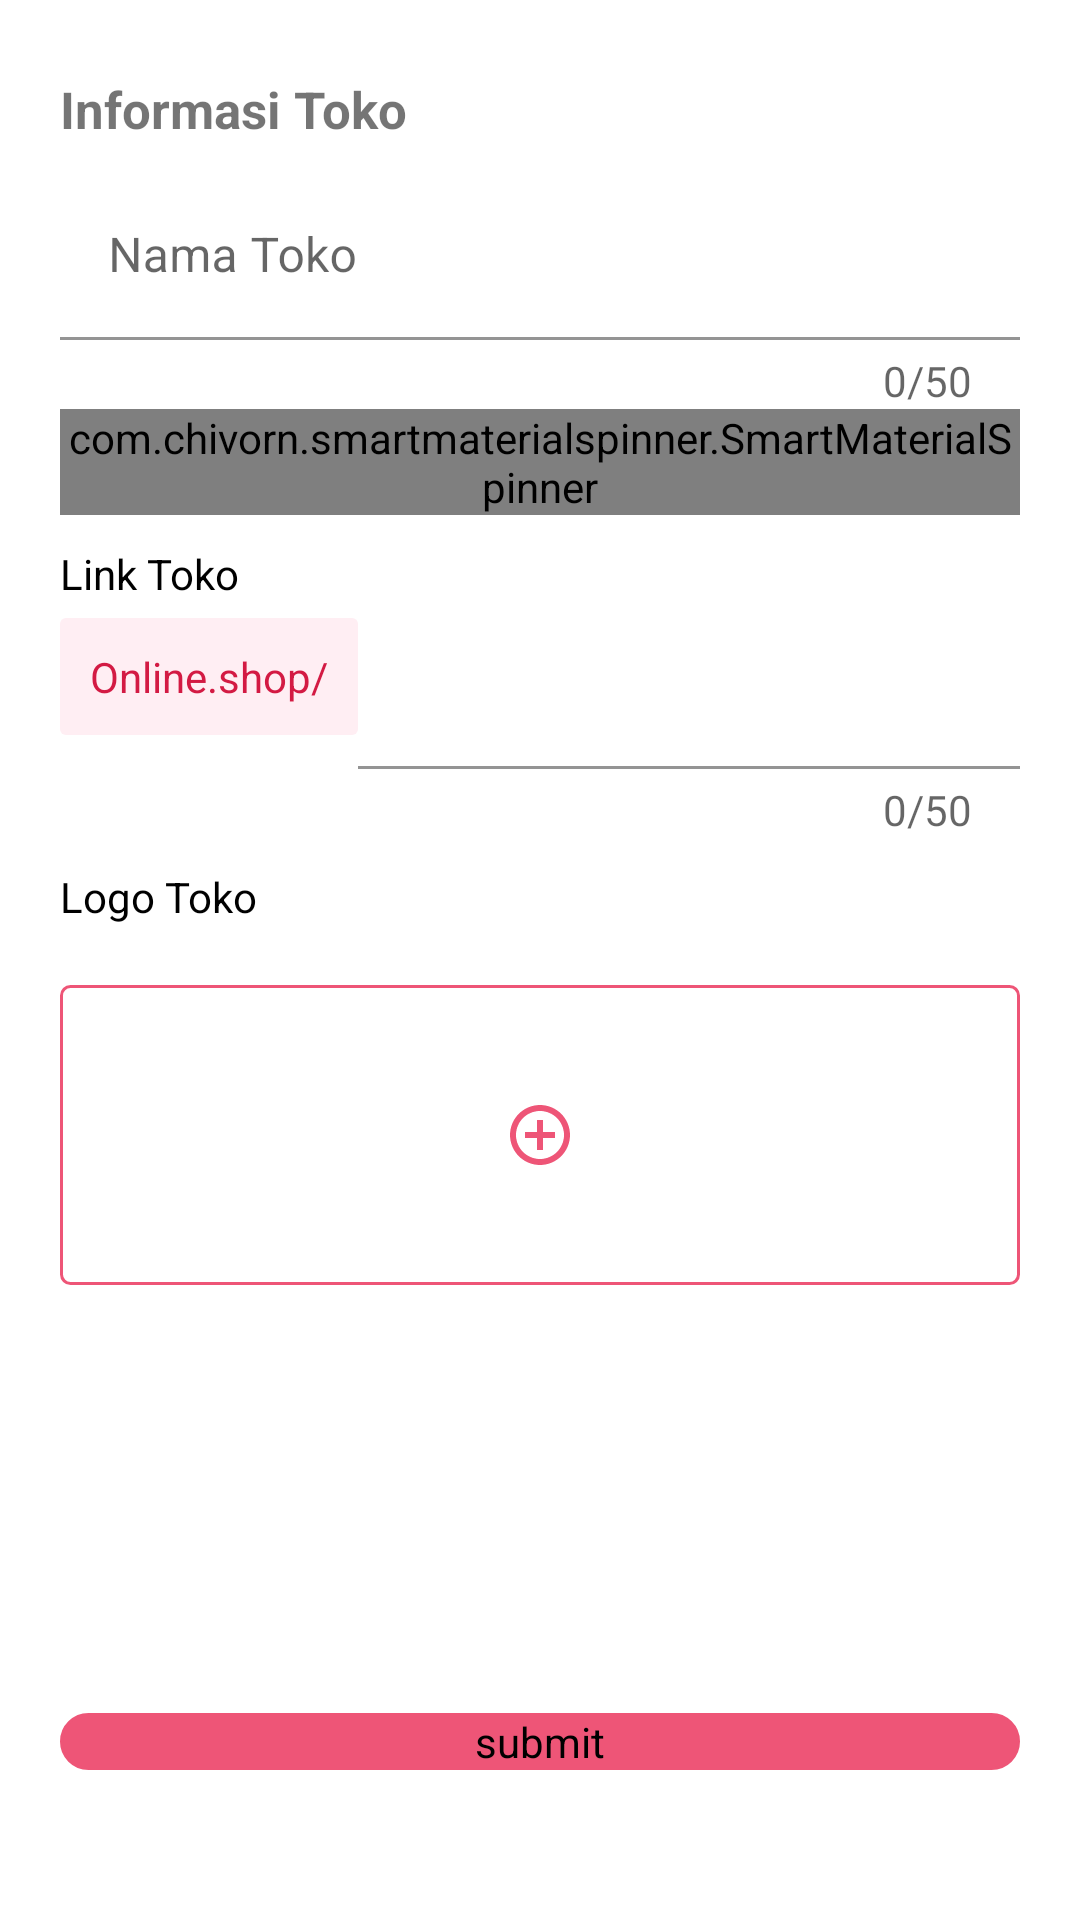

Where to tap for icons on this 1080x1920 app screen, as (x,y):
add circle: (540,1135)
